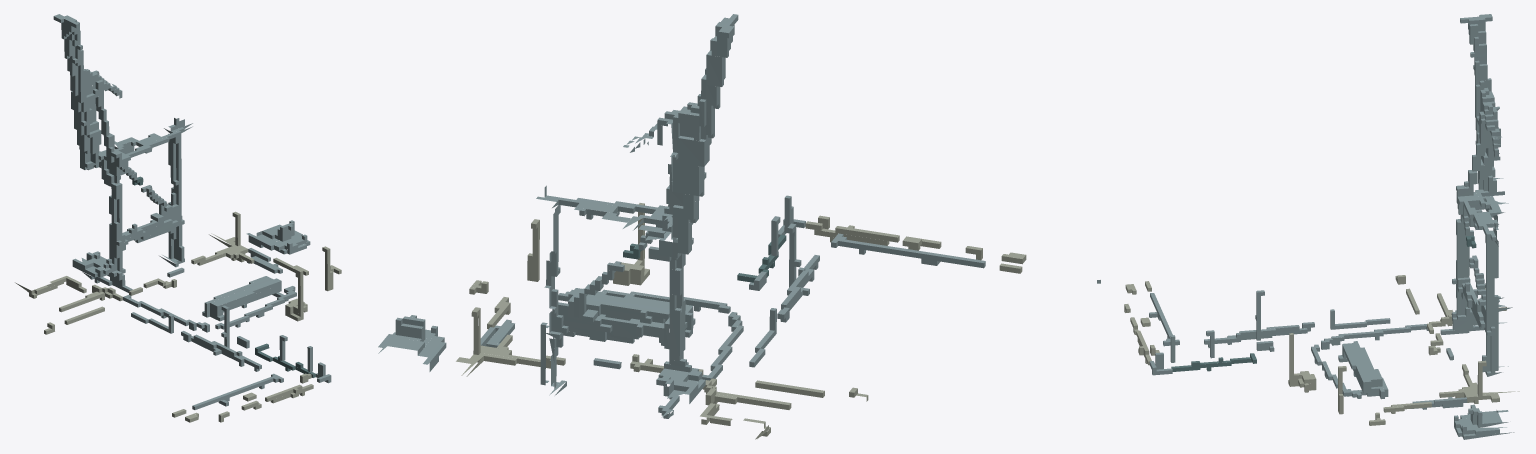
The picture shows the model from 3 angles, left to right: view 1: azimuth 30°, elevation 25°; view 2: azimuth 150°, elevation 25°; view 3: azimuth 270°, elevation 25°; orthographic projection. The views are drawn at different scales.
Parts seen in each view (by area): view 1: measured-industrial; view 2: measured-industrial; view 3: measured-industrial.
Part boxes in pixels (x1,y1,x2,y2): measured-industrial: (15,14,341,422); measured-industrial: (378,14,1026,439); measured-industrial: (1097,14,1519,439).
Bounding box in the file's own units: 134 × 123 × 156.
